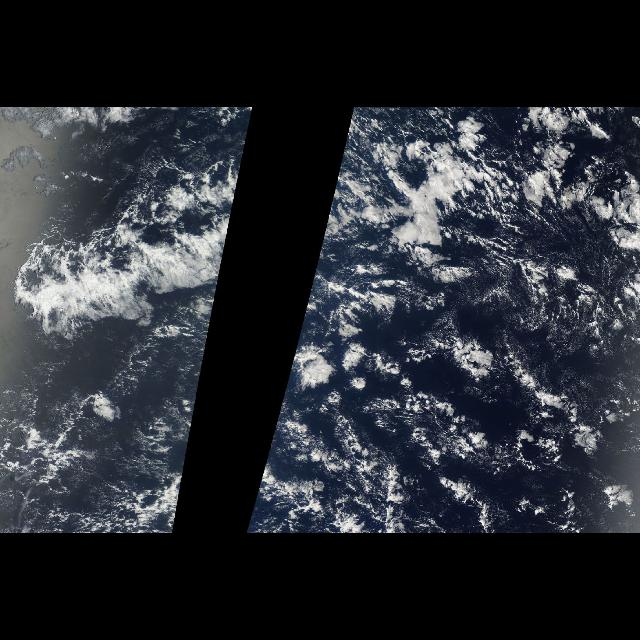Fish: (7, 156, 244, 370)
